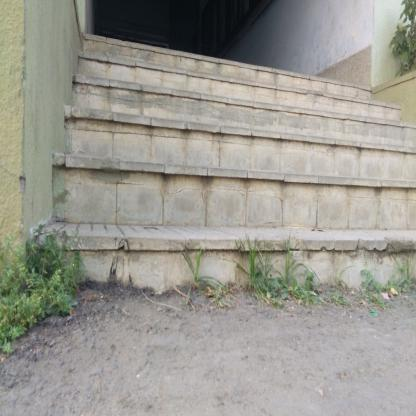stairs: (178, 92, 379, 312)
